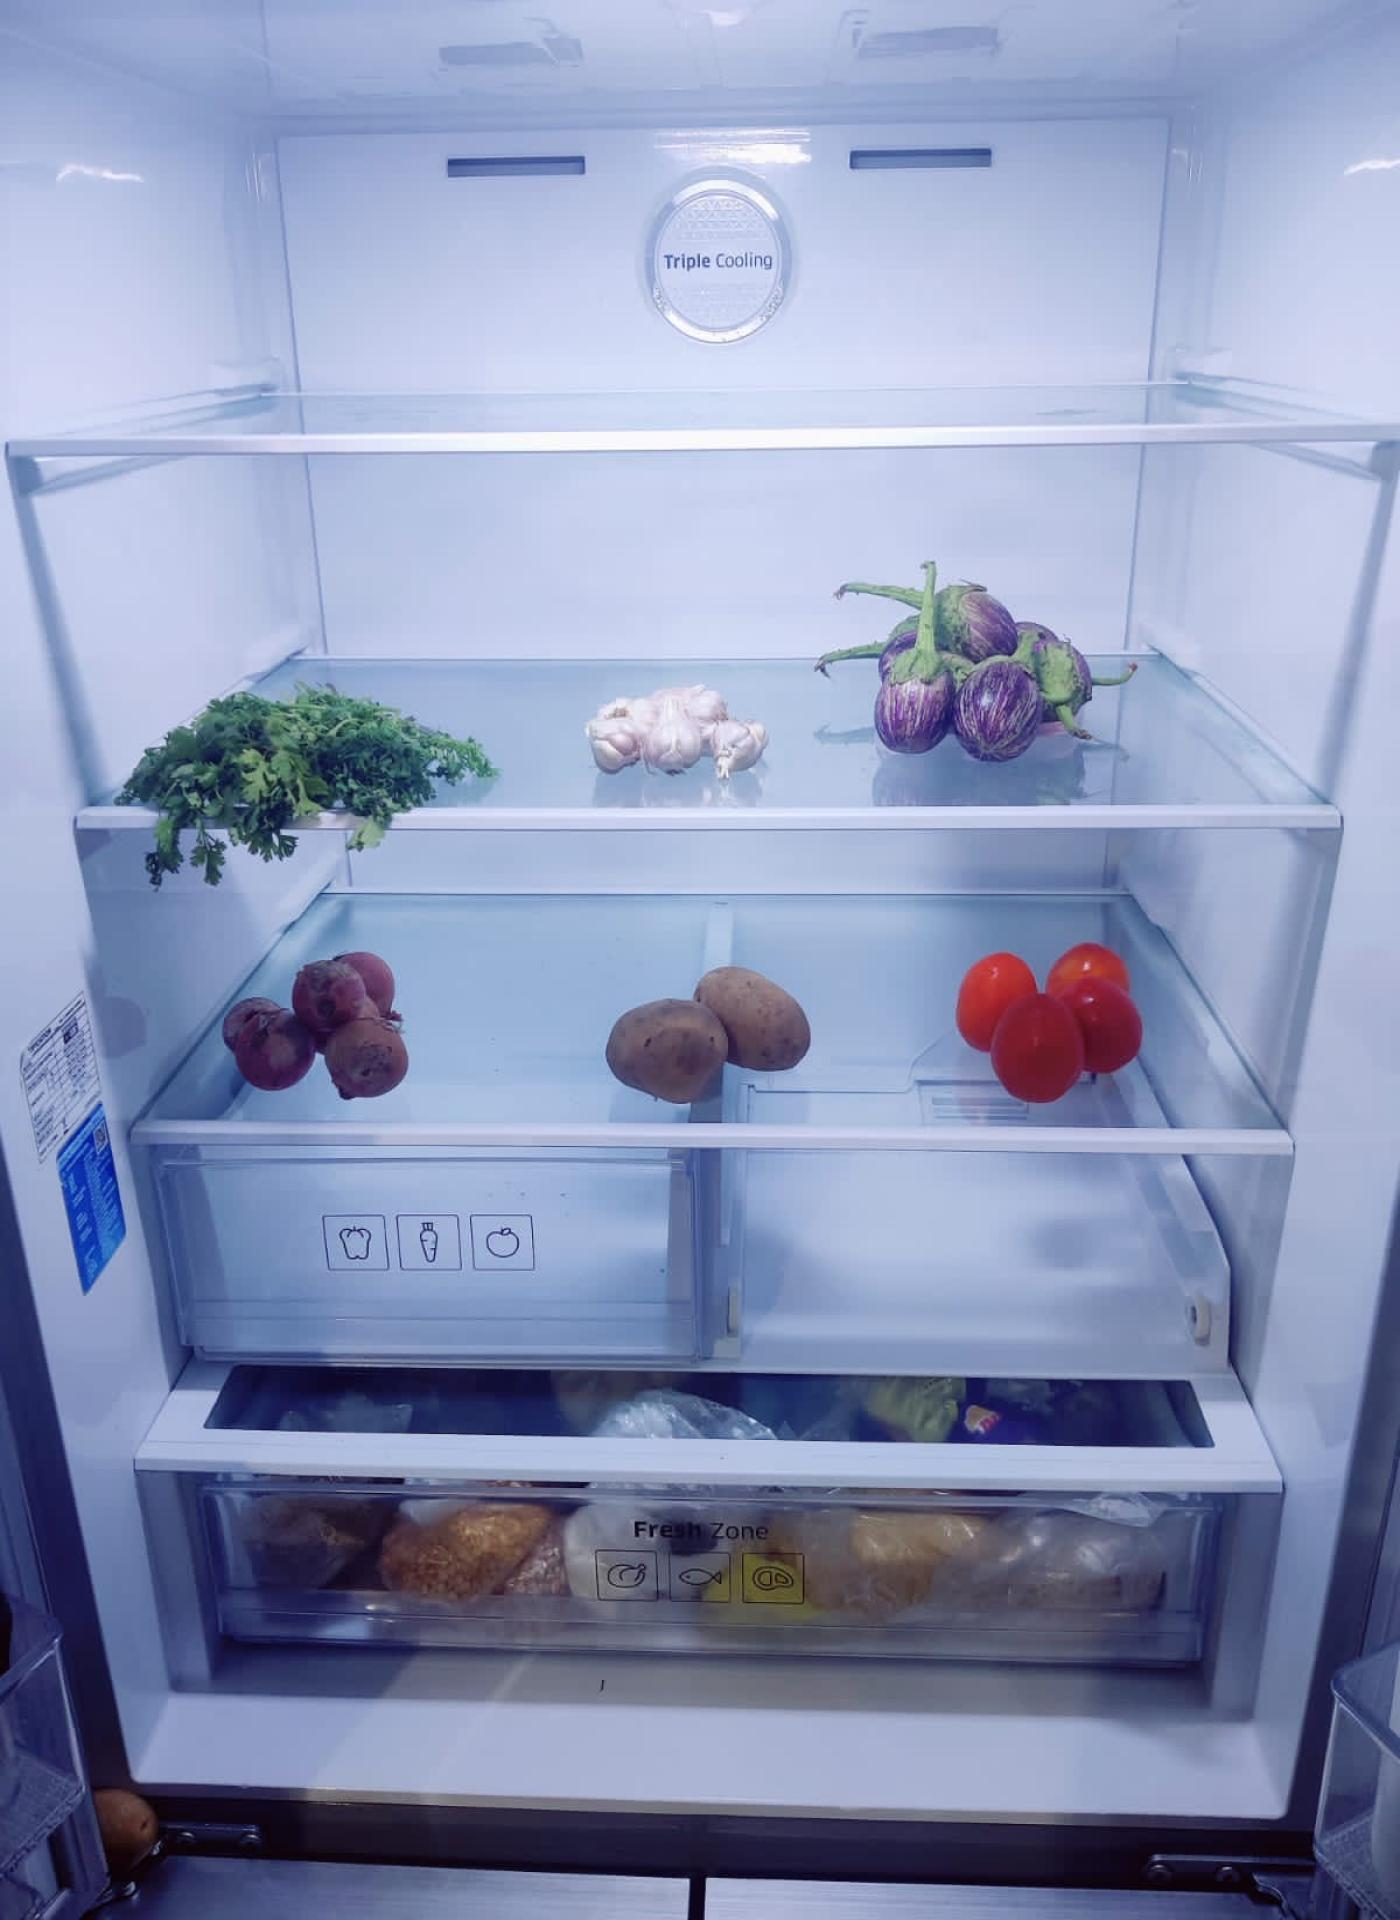brinjal: (856, 575, 1102, 754)
coriander: (133, 680, 489, 842)
garlic: (589, 683, 771, 781)
onion: (228, 951, 413, 1097)
potato: (610, 963, 817, 1102)
tomato: (951, 944, 1145, 1106)
